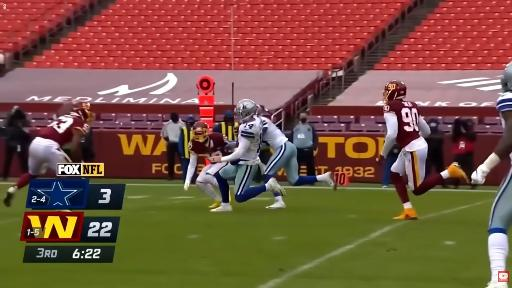Helmet: (383, 81, 406, 103), (235, 100, 258, 121), (70, 102, 94, 122), (192, 121, 209, 142), (501, 62, 511, 92)
Jersey: (384, 100, 420, 148), (39, 115, 89, 147), (239, 117, 263, 161), (188, 133, 227, 157), (260, 117, 287, 150), (496, 92, 511, 129)
Player: (378, 81, 467, 219), (4, 102, 94, 206), (210, 100, 284, 211), (259, 116, 336, 190), (472, 62, 511, 184), (184, 121, 235, 190)
